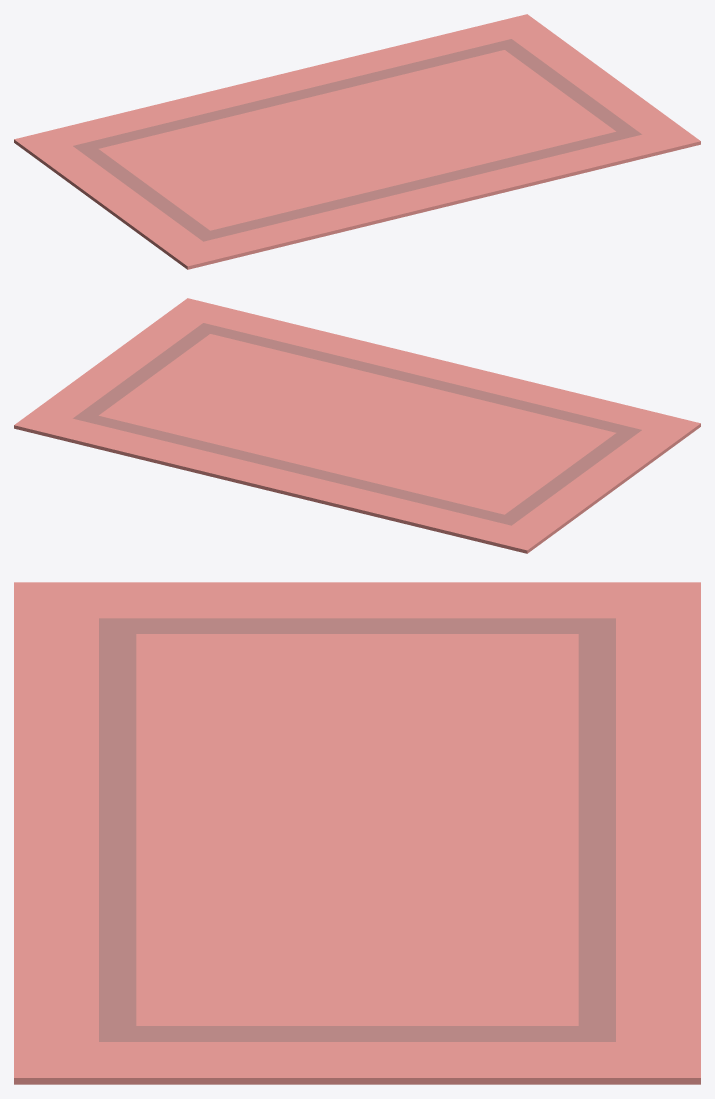
File: rugRectangle.glb
3 views of the same model, one above another, from view 1: azimuth 30°, elevation 25°; view 2: azimuth 150°, elevation 25°; view 3: azimuth 270°, elevation 25° (orthographic). The views are drawn at different scales.
Parts seen in each view (by area): view 1: rugRectangle(Clone); view 2: rugRectangle(Clone); view 3: rugRectangle(Clone).
Part boxes in pixels (bbox=[...]): rugRectangle(Clone): bbox=[14, 14, 700, 269]; rugRectangle(Clone): bbox=[14, 298, 700, 553]; rugRectangle(Clone): bbox=[14, 582, 700, 1084].
Bounding box in the file's own units: 3.19 × 0.0203 × 1.87.
Materials: 2 (2 with a texture image).
